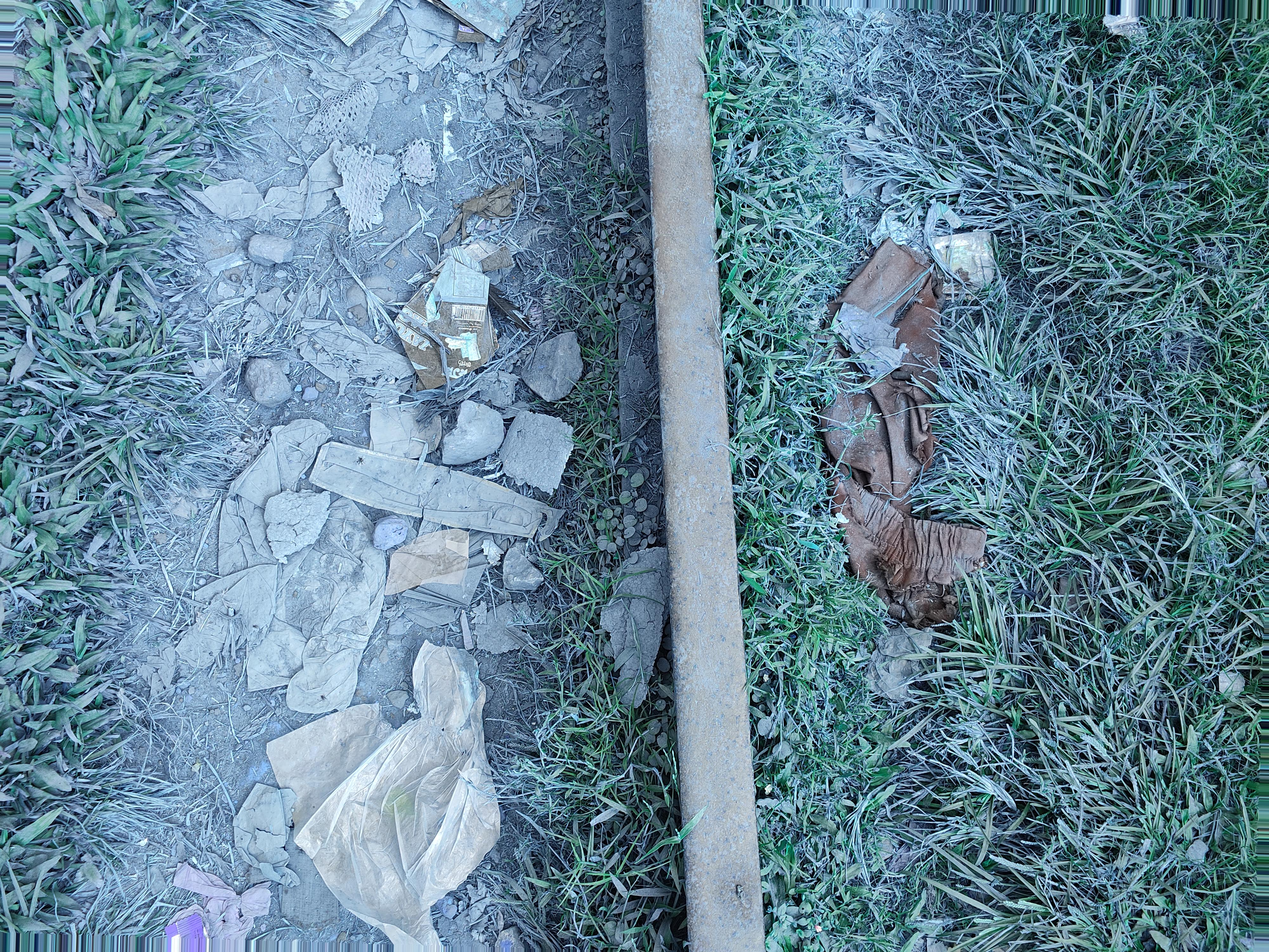tracks_fault: (617, 0, 803, 948)
